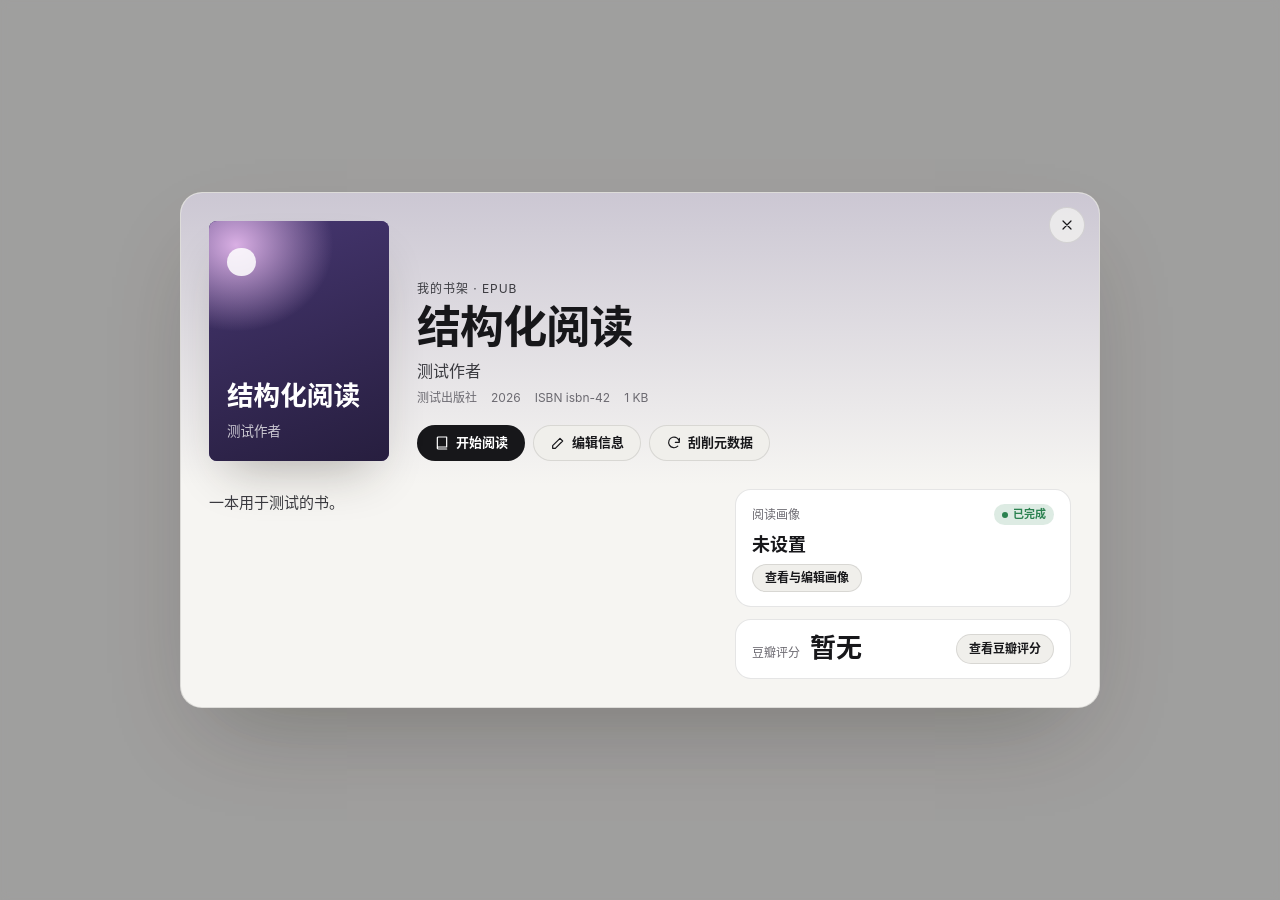
BookDetailModal 书籍画像 › ready 时展示类型、置信度和分析时间
Click the button "查看与编辑画像": (807, 578) [752, 564, 862, 592]
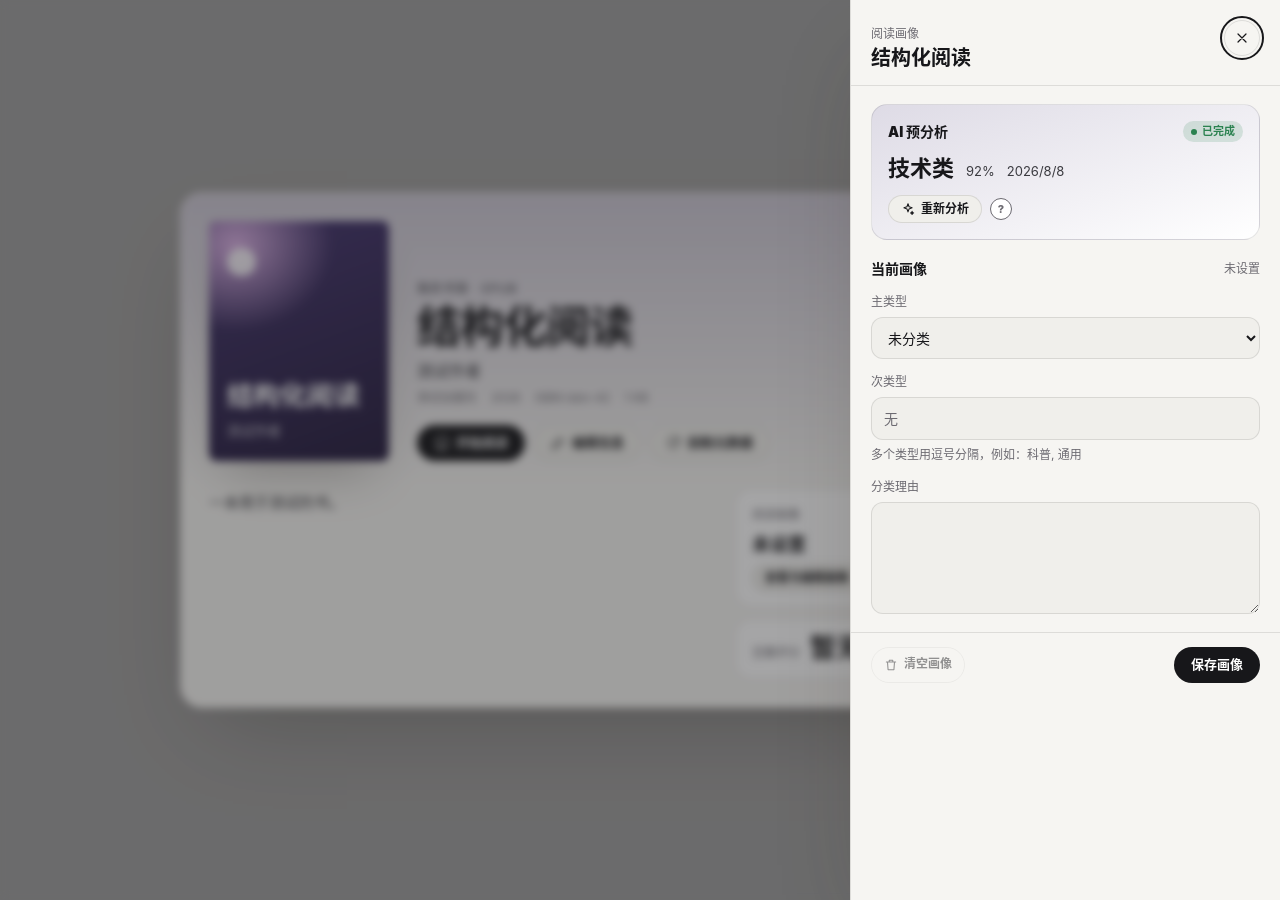
Now the text "AI 预分析" is shown, box [888, 121, 948, 142]
Now the text "技术类" is shown, box [888, 152, 954, 185]
Now the text "92%" is shown, box [966, 162, 995, 182]
